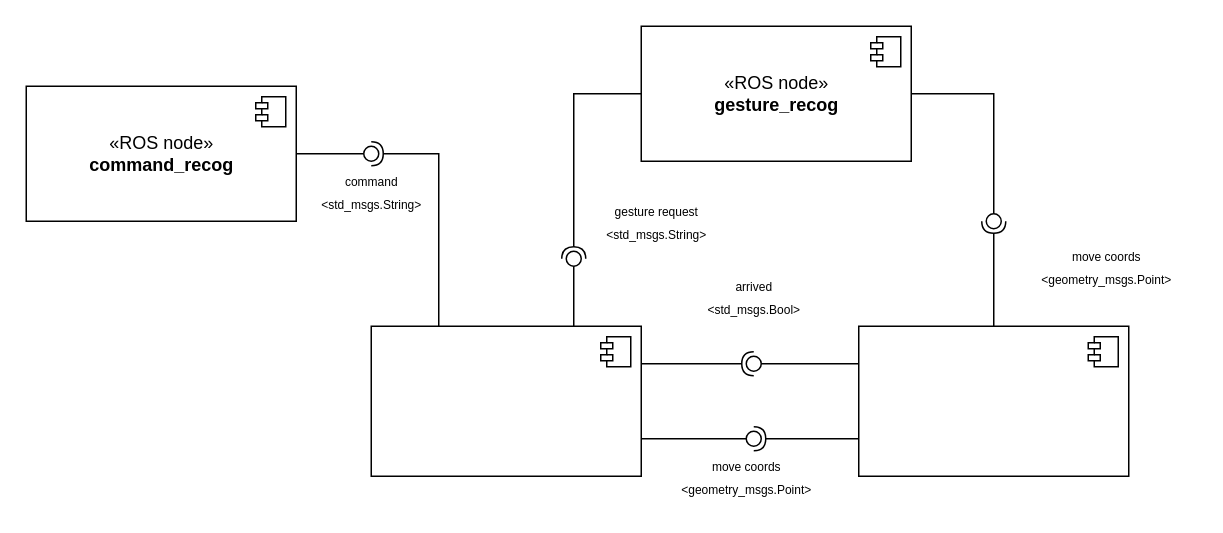
The diagram is 1223 pixels wide and 533 high, and some of its shapes have lost their labels. Each missing label, with the centre of its shape:
"«ROS node» movement_control" belongs at (x=993, y=400).
"«State Machine» sm_assignment" belongs at (x=505, y=400).
